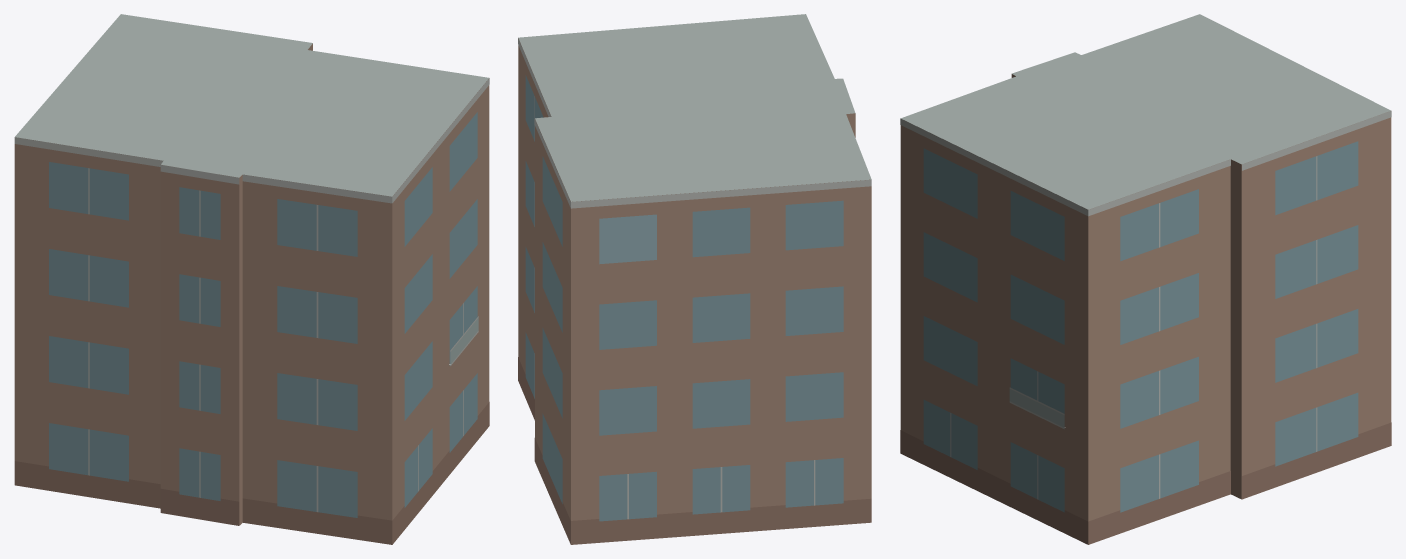
File: survey-upis-33039411.glb
3 renders of one model, left to right at view 1: azimuth 30°, elevation 25°; view 2: azimuth 150°, elevation 25°; view 3: azimuth 270°, elevation 25°, orthographic. The views are drawn at different scales.
Visible parts, largest first — view 1: survey-upis-33039411.tmp; view 2: survey-upis-33039411.tmp; view 3: survey-upis-33039411.tmp.
Boxes of the visible parts, x1,y1,x2,y2 form: survey-upis-33039411.tmp: (14, 14, 489, 544); survey-upis-33039411.tmp: (518, 14, 871, 544); survey-upis-33039411.tmp: (900, 14, 1391, 544).
Bounding box in the file's own units: 15.6 × 12.45 × 16.54.
